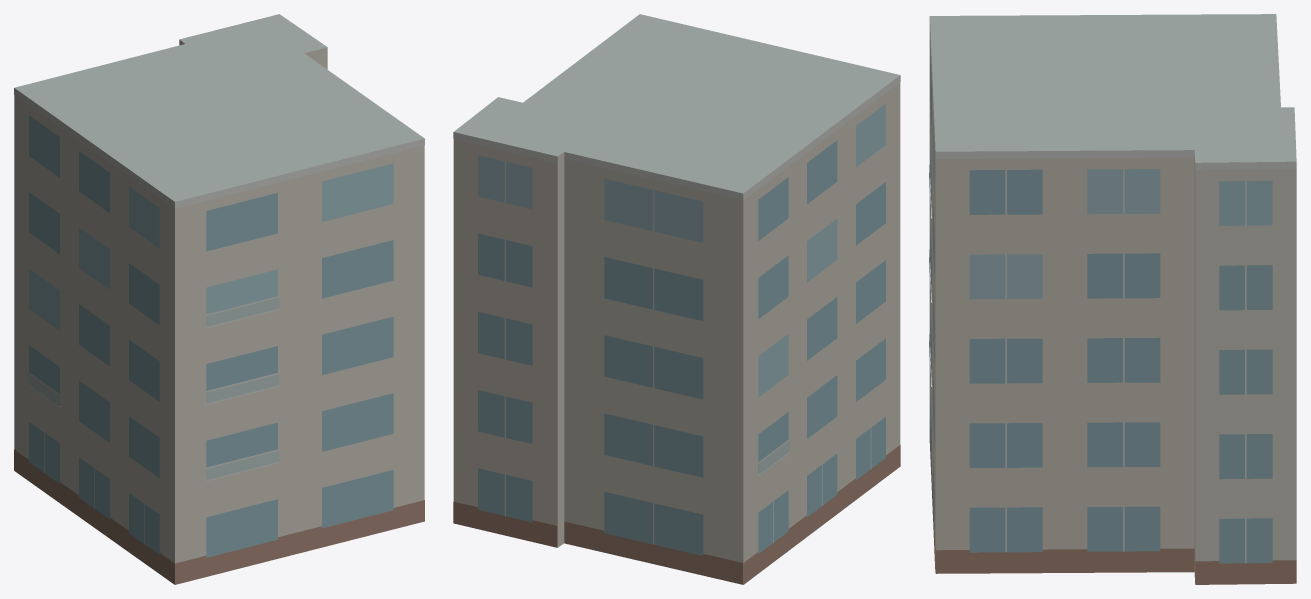
The model's file is survey-upis-32575814.glb.
3 views of the same model, side by side, from view 1: azimuth 30°, elevation 25°; view 2: azimuth 150°, elevation 25°; view 3: azimuth 270°, elevation 25° (orthographic). The views are drawn at different scales.
Parts seen in each view (by area): view 1: survey-upis-32575814.tmp; view 2: survey-upis-32575814.tmp; view 3: survey-upis-32575814.tmp.
Boxes of the visible parts, x1,y1,x2,y2 form: survey-upis-32575814.tmp: (14, 14, 424, 584); survey-upis-32575814.tmp: (453, 14, 900, 584); survey-upis-32575814.tmp: (929, 14, 1296, 584).
Size of the model in its own units: 10.48 by 13.81 by 10.91.
